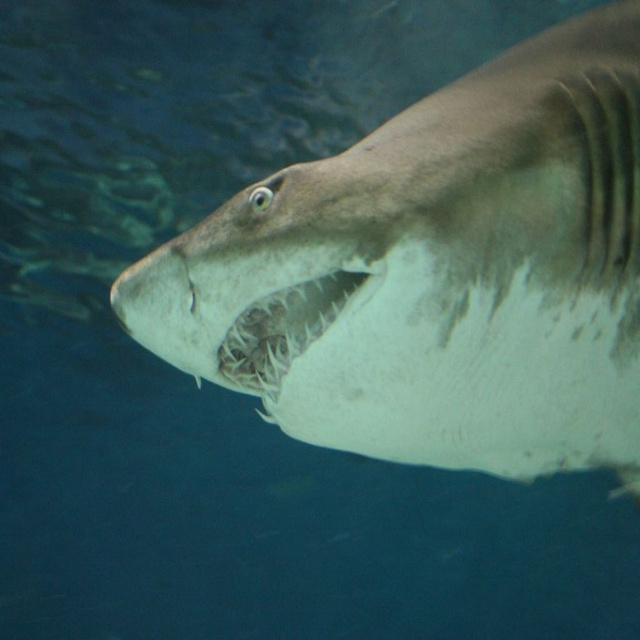Shark: (110, 0, 640, 506)
